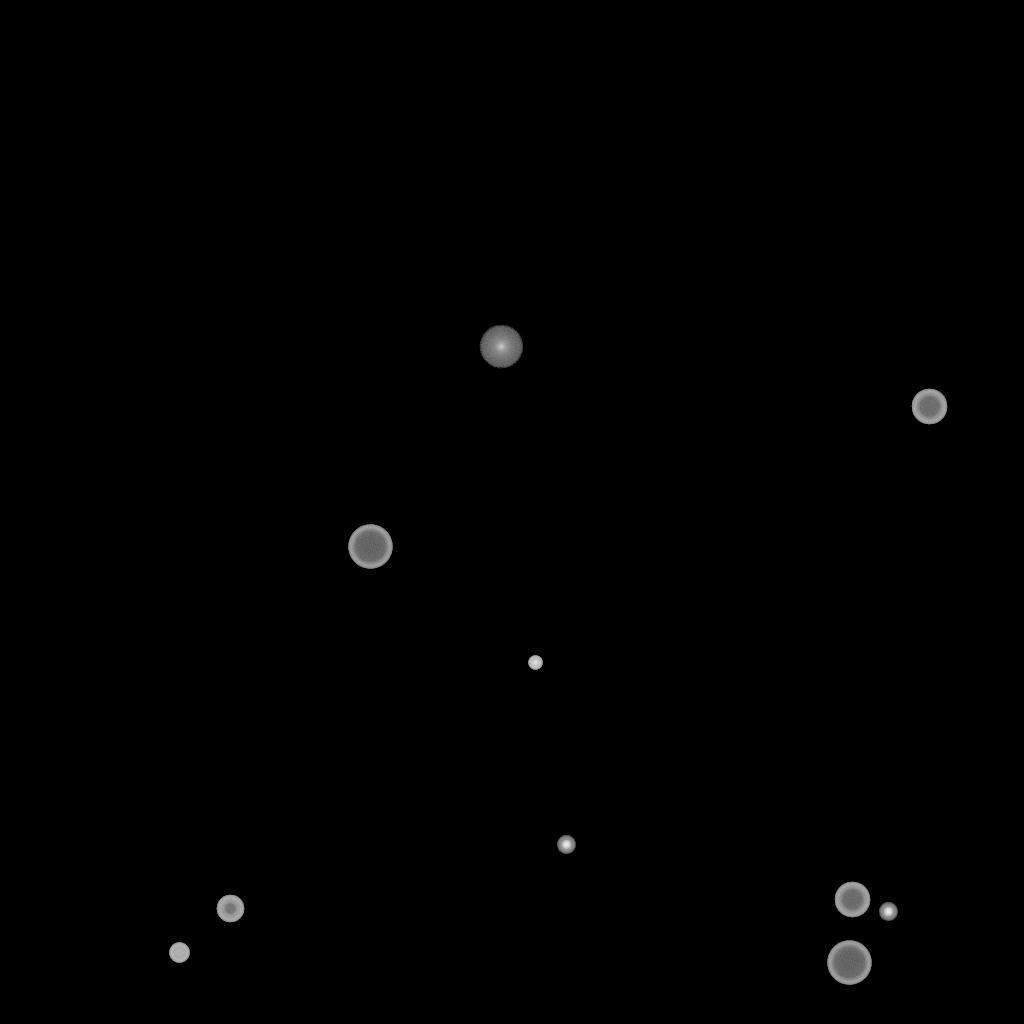depth:-20: (879, 903, 897, 921), (557, 836, 575, 854)
depth:-30: (528, 656, 542, 670)
depth:-40: (169, 943, 189, 963)
depth:-50: (216, 895, 244, 923)
depth:-60: (911, 389, 947, 425), (834, 882, 870, 918)
depth:-70: (827, 941, 871, 985), (348, 525, 392, 569)
depth:10: (479, 325, 523, 369)
